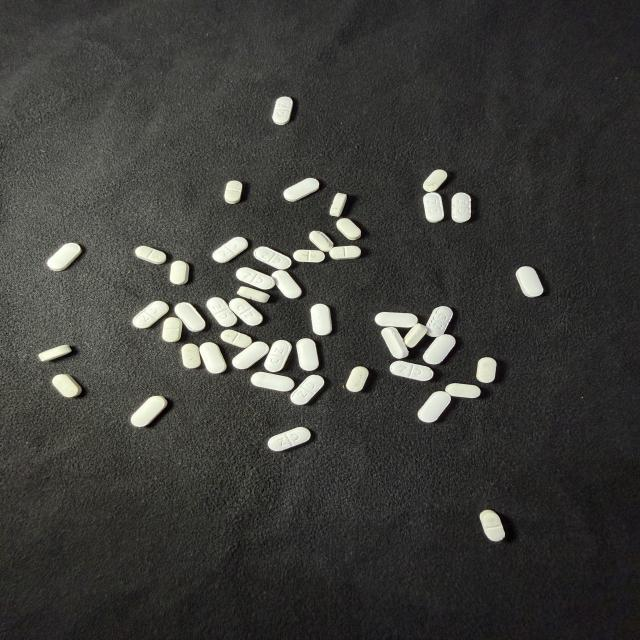pill: (131, 396, 167, 427), (268, 427, 310, 451), (232, 342, 269, 369), (418, 391, 450, 422), (291, 375, 324, 405), (47, 243, 81, 271), (133, 301, 168, 328), (423, 335, 455, 364), (229, 298, 263, 325), (213, 237, 248, 263), (206, 297, 237, 326), (175, 303, 205, 332), (265, 340, 292, 372), (390, 361, 433, 381), (236, 268, 274, 290), (382, 327, 408, 359), (251, 372, 294, 391), (254, 247, 291, 269), (272, 271, 302, 298), (516, 267, 543, 297), (200, 342, 226, 373), (284, 178, 319, 201), (427, 307, 452, 337), (480, 510, 504, 541), (374, 312, 418, 328), (52, 374, 82, 397), (297, 338, 318, 370), (311, 304, 332, 335), (221, 330, 252, 348), (135, 246, 166, 264), (424, 193, 443, 222), (346, 367, 368, 392), (273, 97, 292, 125), (423, 170, 447, 192), (452, 193, 470, 222), (476, 357, 496, 383), (39, 345, 71, 361), (405, 324, 427, 347), (309, 231, 333, 252), (337, 219, 361, 240), (162, 317, 182, 342), (445, 384, 480, 398), (238, 287, 269, 302), (170, 261, 189, 284), (182, 344, 200, 368), (330, 246, 361, 259), (224, 181, 242, 203), (293, 250, 325, 262), (330, 193, 346, 216)
